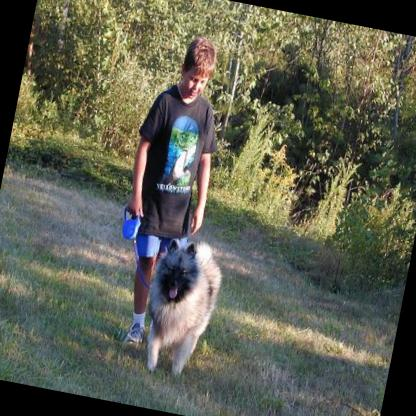keeshond: (127, 226, 228, 382)
